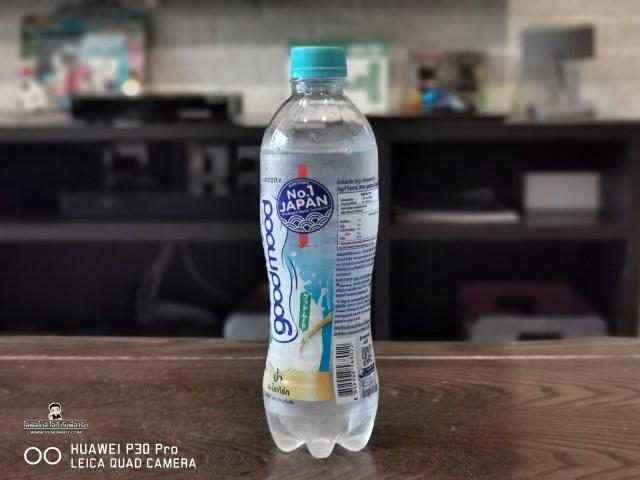bottle: (249, 39, 385, 468)
